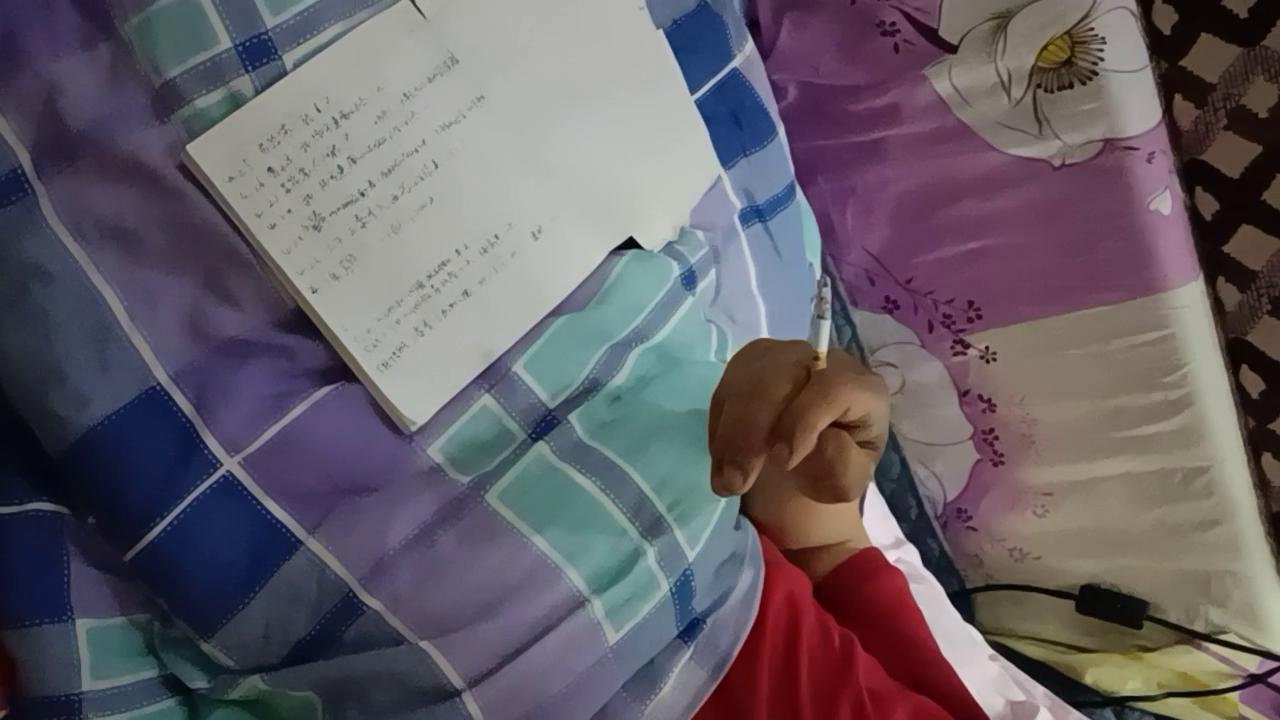smoke: (806, 273, 834, 399)
